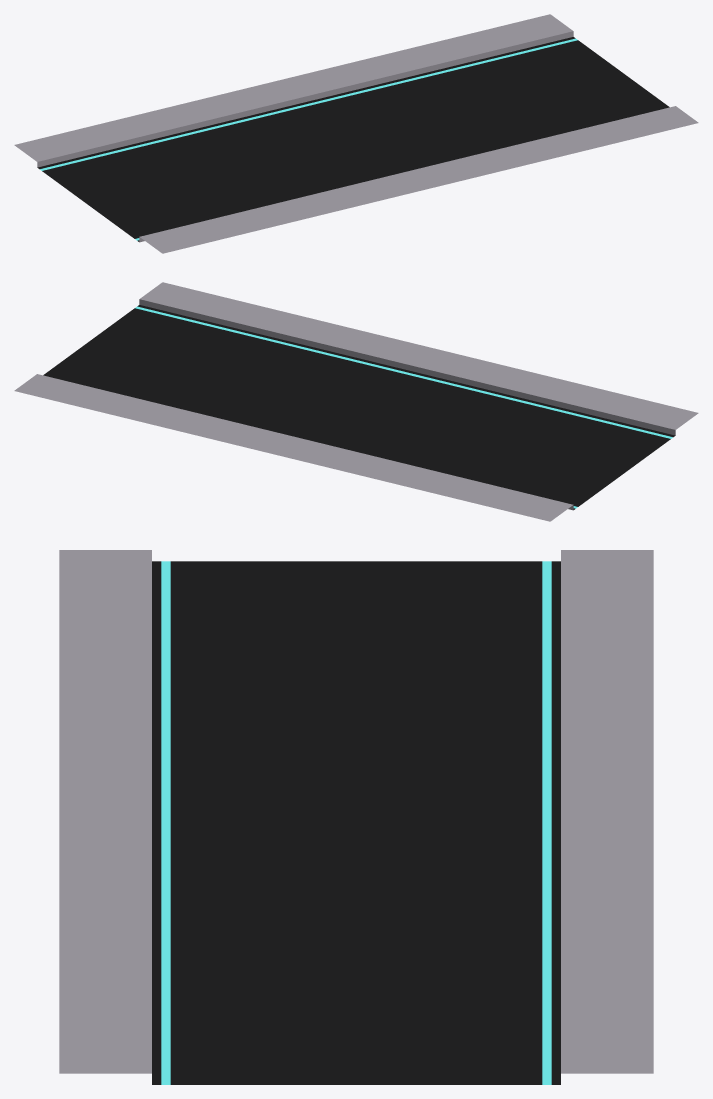
File: 2-vias-6x20.fbx
3 renders of one model, top to bottom at view 1: azimuth 30°, elevation 25°; view 2: azimuth 150°, elevation 25°; view 3: azimuth 270°, elevation 25°, orthographic. The views are drawn at different scales.
Visible parts, largest first — view 1: Model; view 2: Model; view 3: Model.
Part boxes in pixels (x1,y1,x2,y2): Model: (14,14,698,253); Model: (14,282,698,521); Model: (59,550,653,1084).
Size of the model in its own units: 20 by 0.2 by 9.6.
